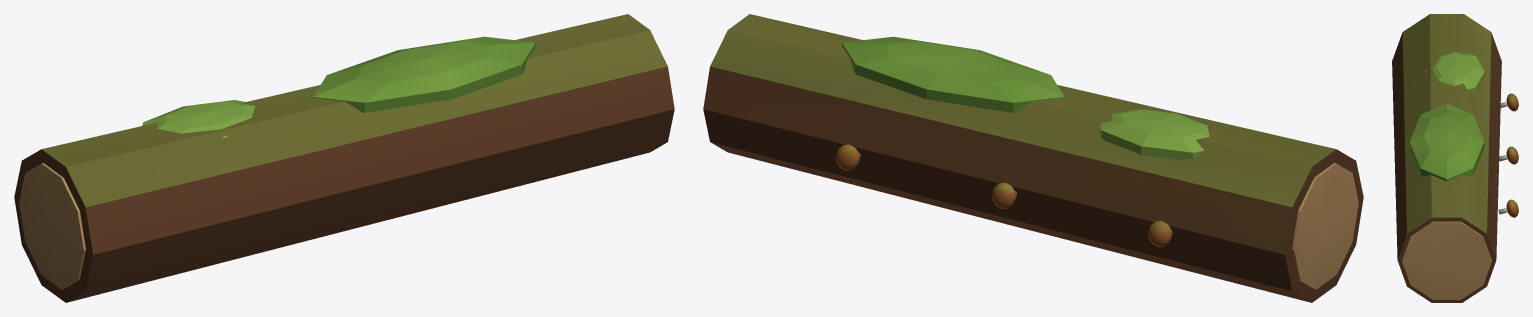
The model's file is log.glb.
The picture shows the model from 3 angles, left to right: view 1: azimuth 30°, elevation 25°; view 2: azimuth 150°, elevation 25°; view 3: azimuth 270°, elevation 25°; orthographic projection. The views are drawn at different scales.
Parts seen in each view (by area): view 1: Log; view 2: Log; view 3: Log.
Part boxes in pixels (x1,y1,x2,y2): Log: [14, 14, 674, 302]; Log: [703, 14, 1363, 302]; Log: [1392, 14, 1518, 302].
Size of what is drawn, in the model's own units: 3.02 by 0.7104 by 0.8084.
